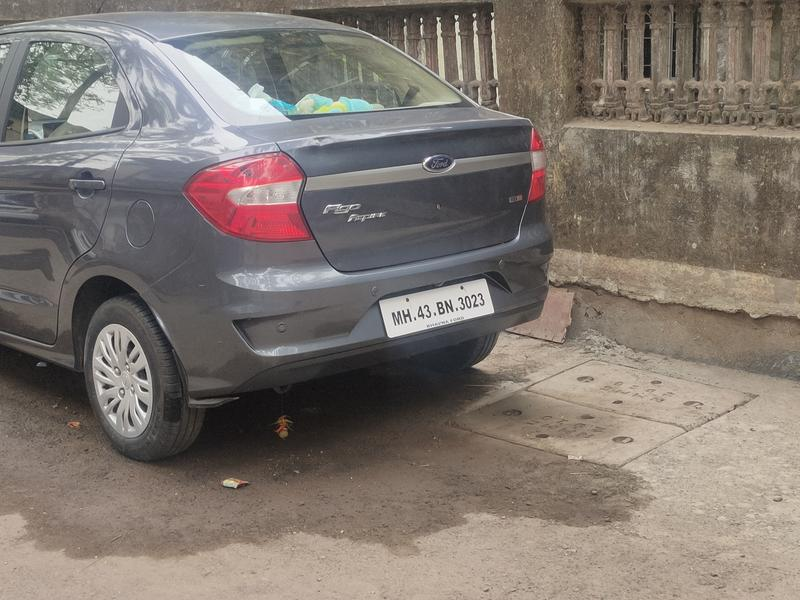license_plate: (369, 274, 493, 343)
